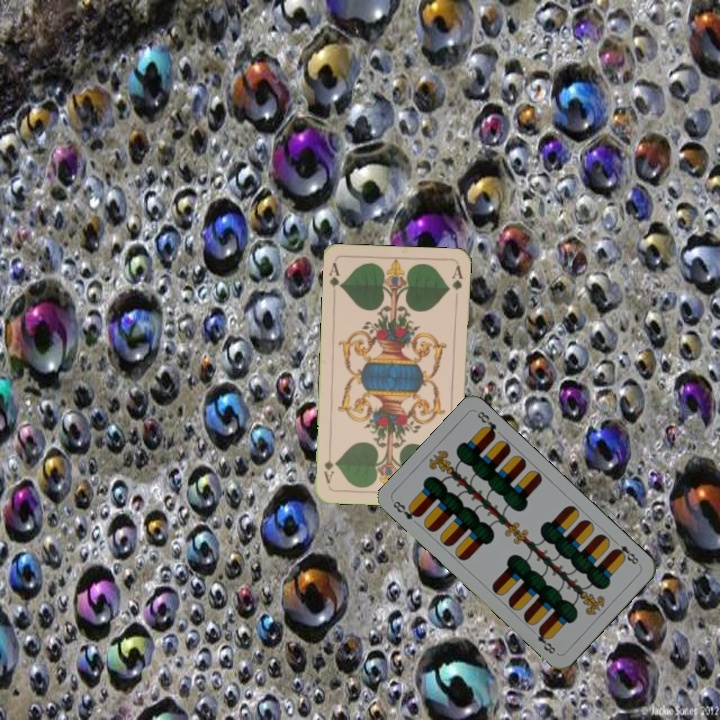E8: (609, 536, 641, 567), (389, 496, 423, 522)
GA: (325, 258, 345, 291)
